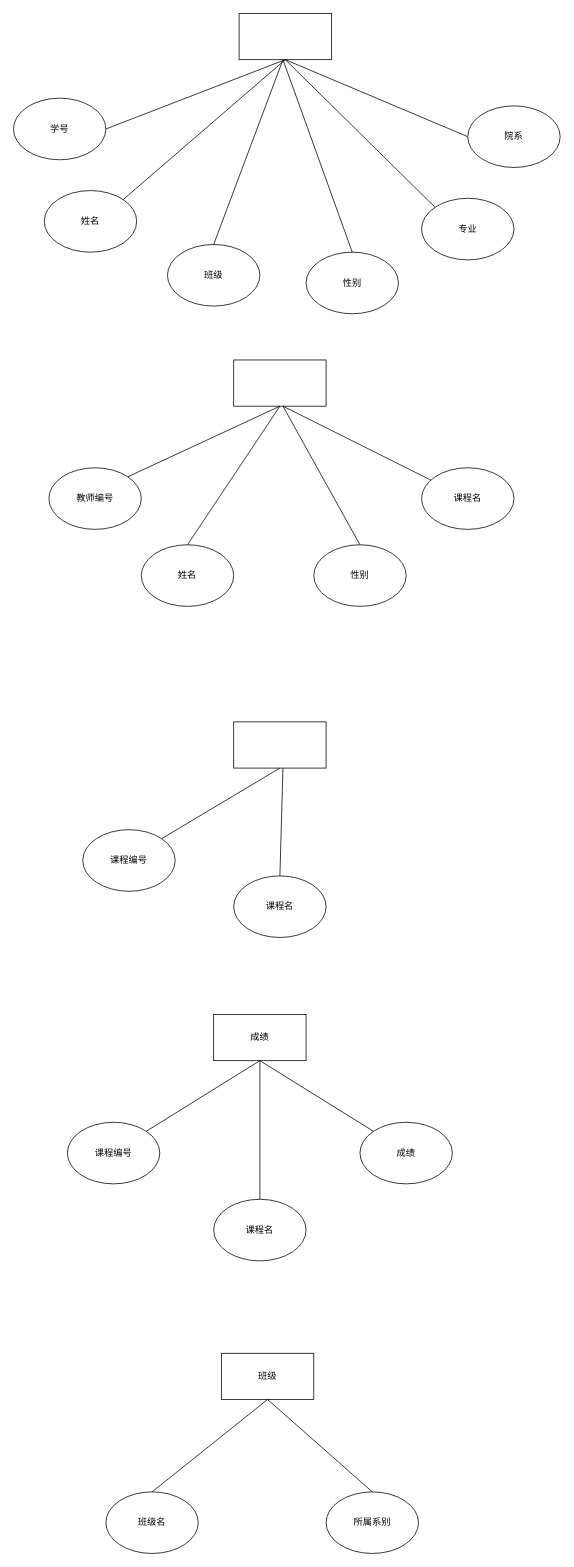
Image size: 574x1567. Some labels were removed from this diagram. The box of each missing label's shape, as (x1, y1, x2, y2) in pixels:
学生: (238, 13, 331, 60)
教师: (233, 359, 326, 406)
课程: (233, 721, 326, 768)
